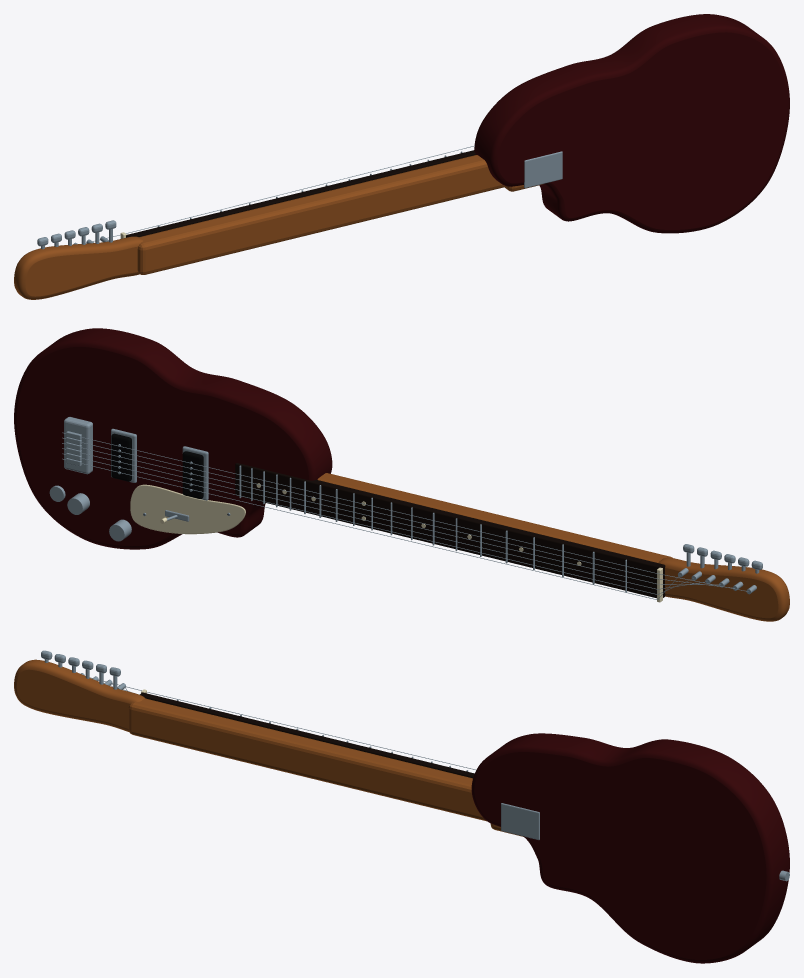
File: Guitar.obj
3 renders of one model, top to bottom at view 1: azimuth 30°, elevation 25°; view 2: azimuth 150°, elevation 25°; view 3: azimuth 330°, elevation 25°, orthographic.
Parts seen in each view (by area): view 1: Carved_body.001; view 2: Carved_body.001; view 3: Carved_body.001.
Boxes of the visible parts, <box> form: Carved_body.001: <box>14,14,789,299</box>; Carved_body.001: <box>14,328,789,621</box>; Carved_body.001: <box>14,650,789,963</box>.
Size of the model in its own units: 1.3 by 0.3256 by 0.0959.
